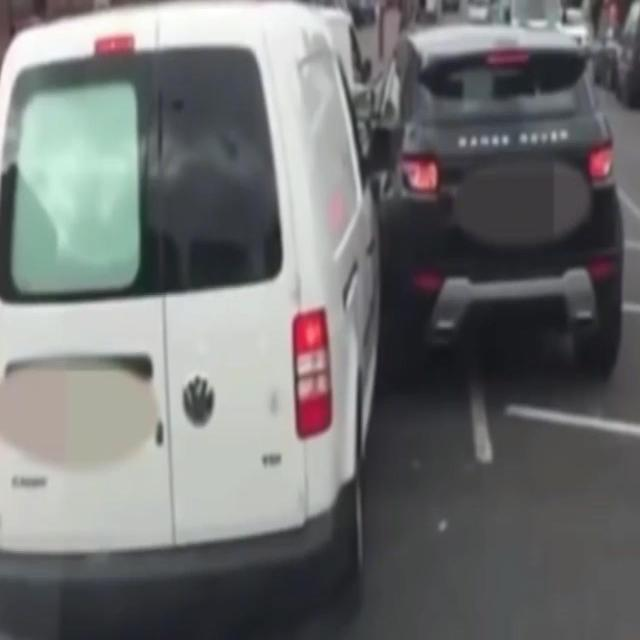moderate: (2, 16, 632, 635)
